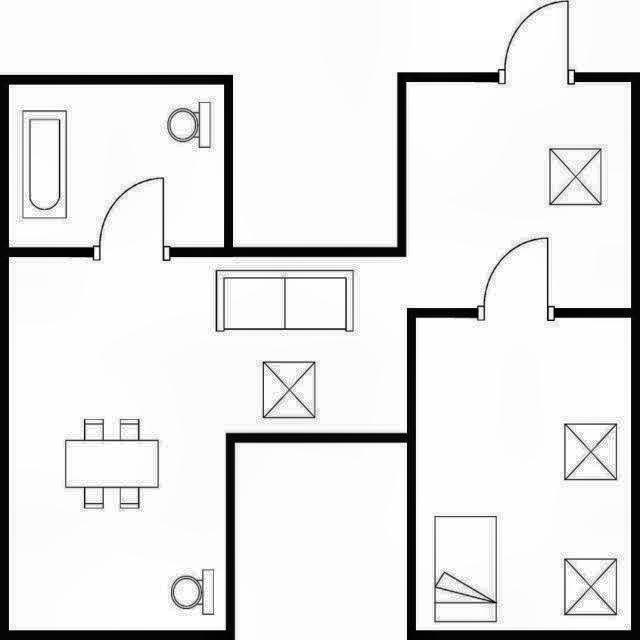room: (9, 82, 631, 630), (416, 318, 631, 630), (9, 85, 224, 247)
